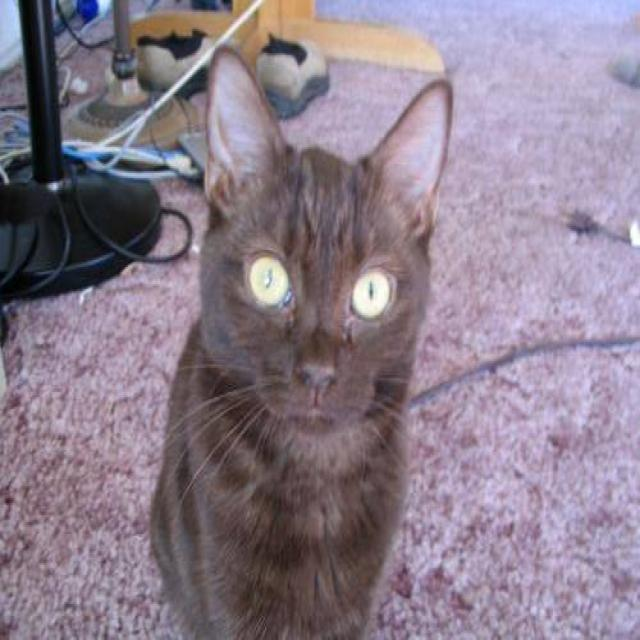cat: (147, 41, 453, 638)
